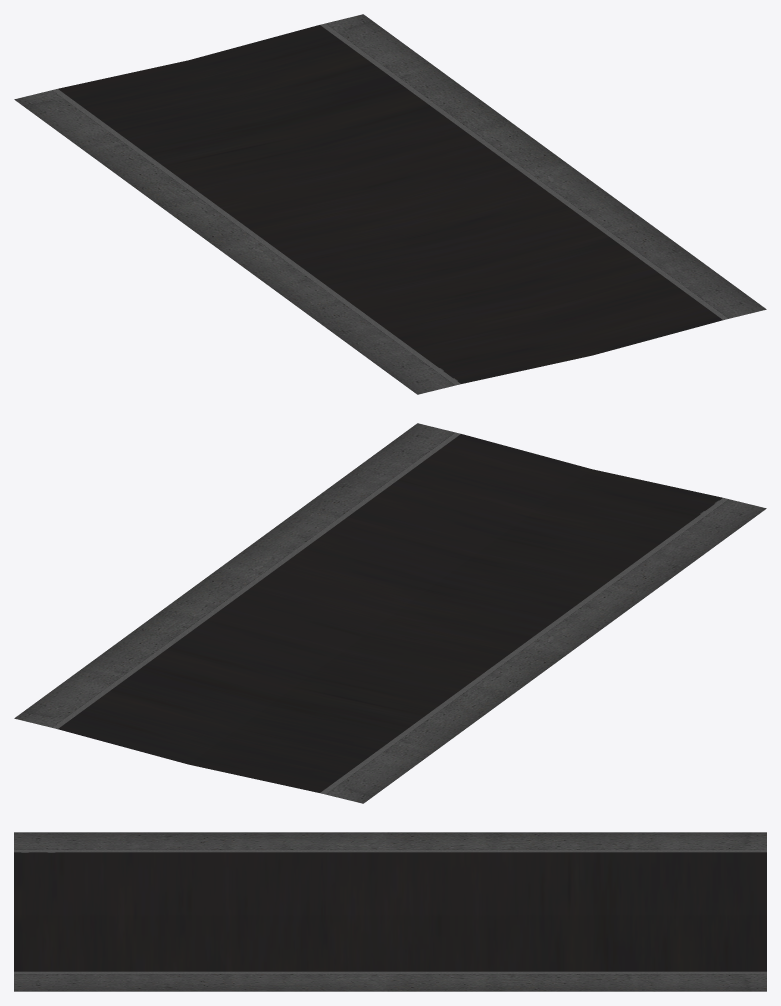
Rendered from RJs_Road 3+3 Slope Node_lod.fbx.
The picture shows the model from 3 angles, top to bottom: view 1: azimuth 30°, elevation 25°; view 2: azimuth 150°, elevation 25°; view 3: azimuth 270°, elevation 25°; orthographic projection. The views are drawn at different scales.
Visible parts, largest first — view 1: plane_lod; view 2: plane_lod; view 3: plane_lod.
Part boxes in pixels (x1,y1,x2,y2): plane_lod: [14, 14, 766, 394]; plane_lod: [14, 423, 766, 803]; plane_lod: [14, 832, 766, 991].
Size of the model in its own units: 3200 by 30.1 by 6400.
